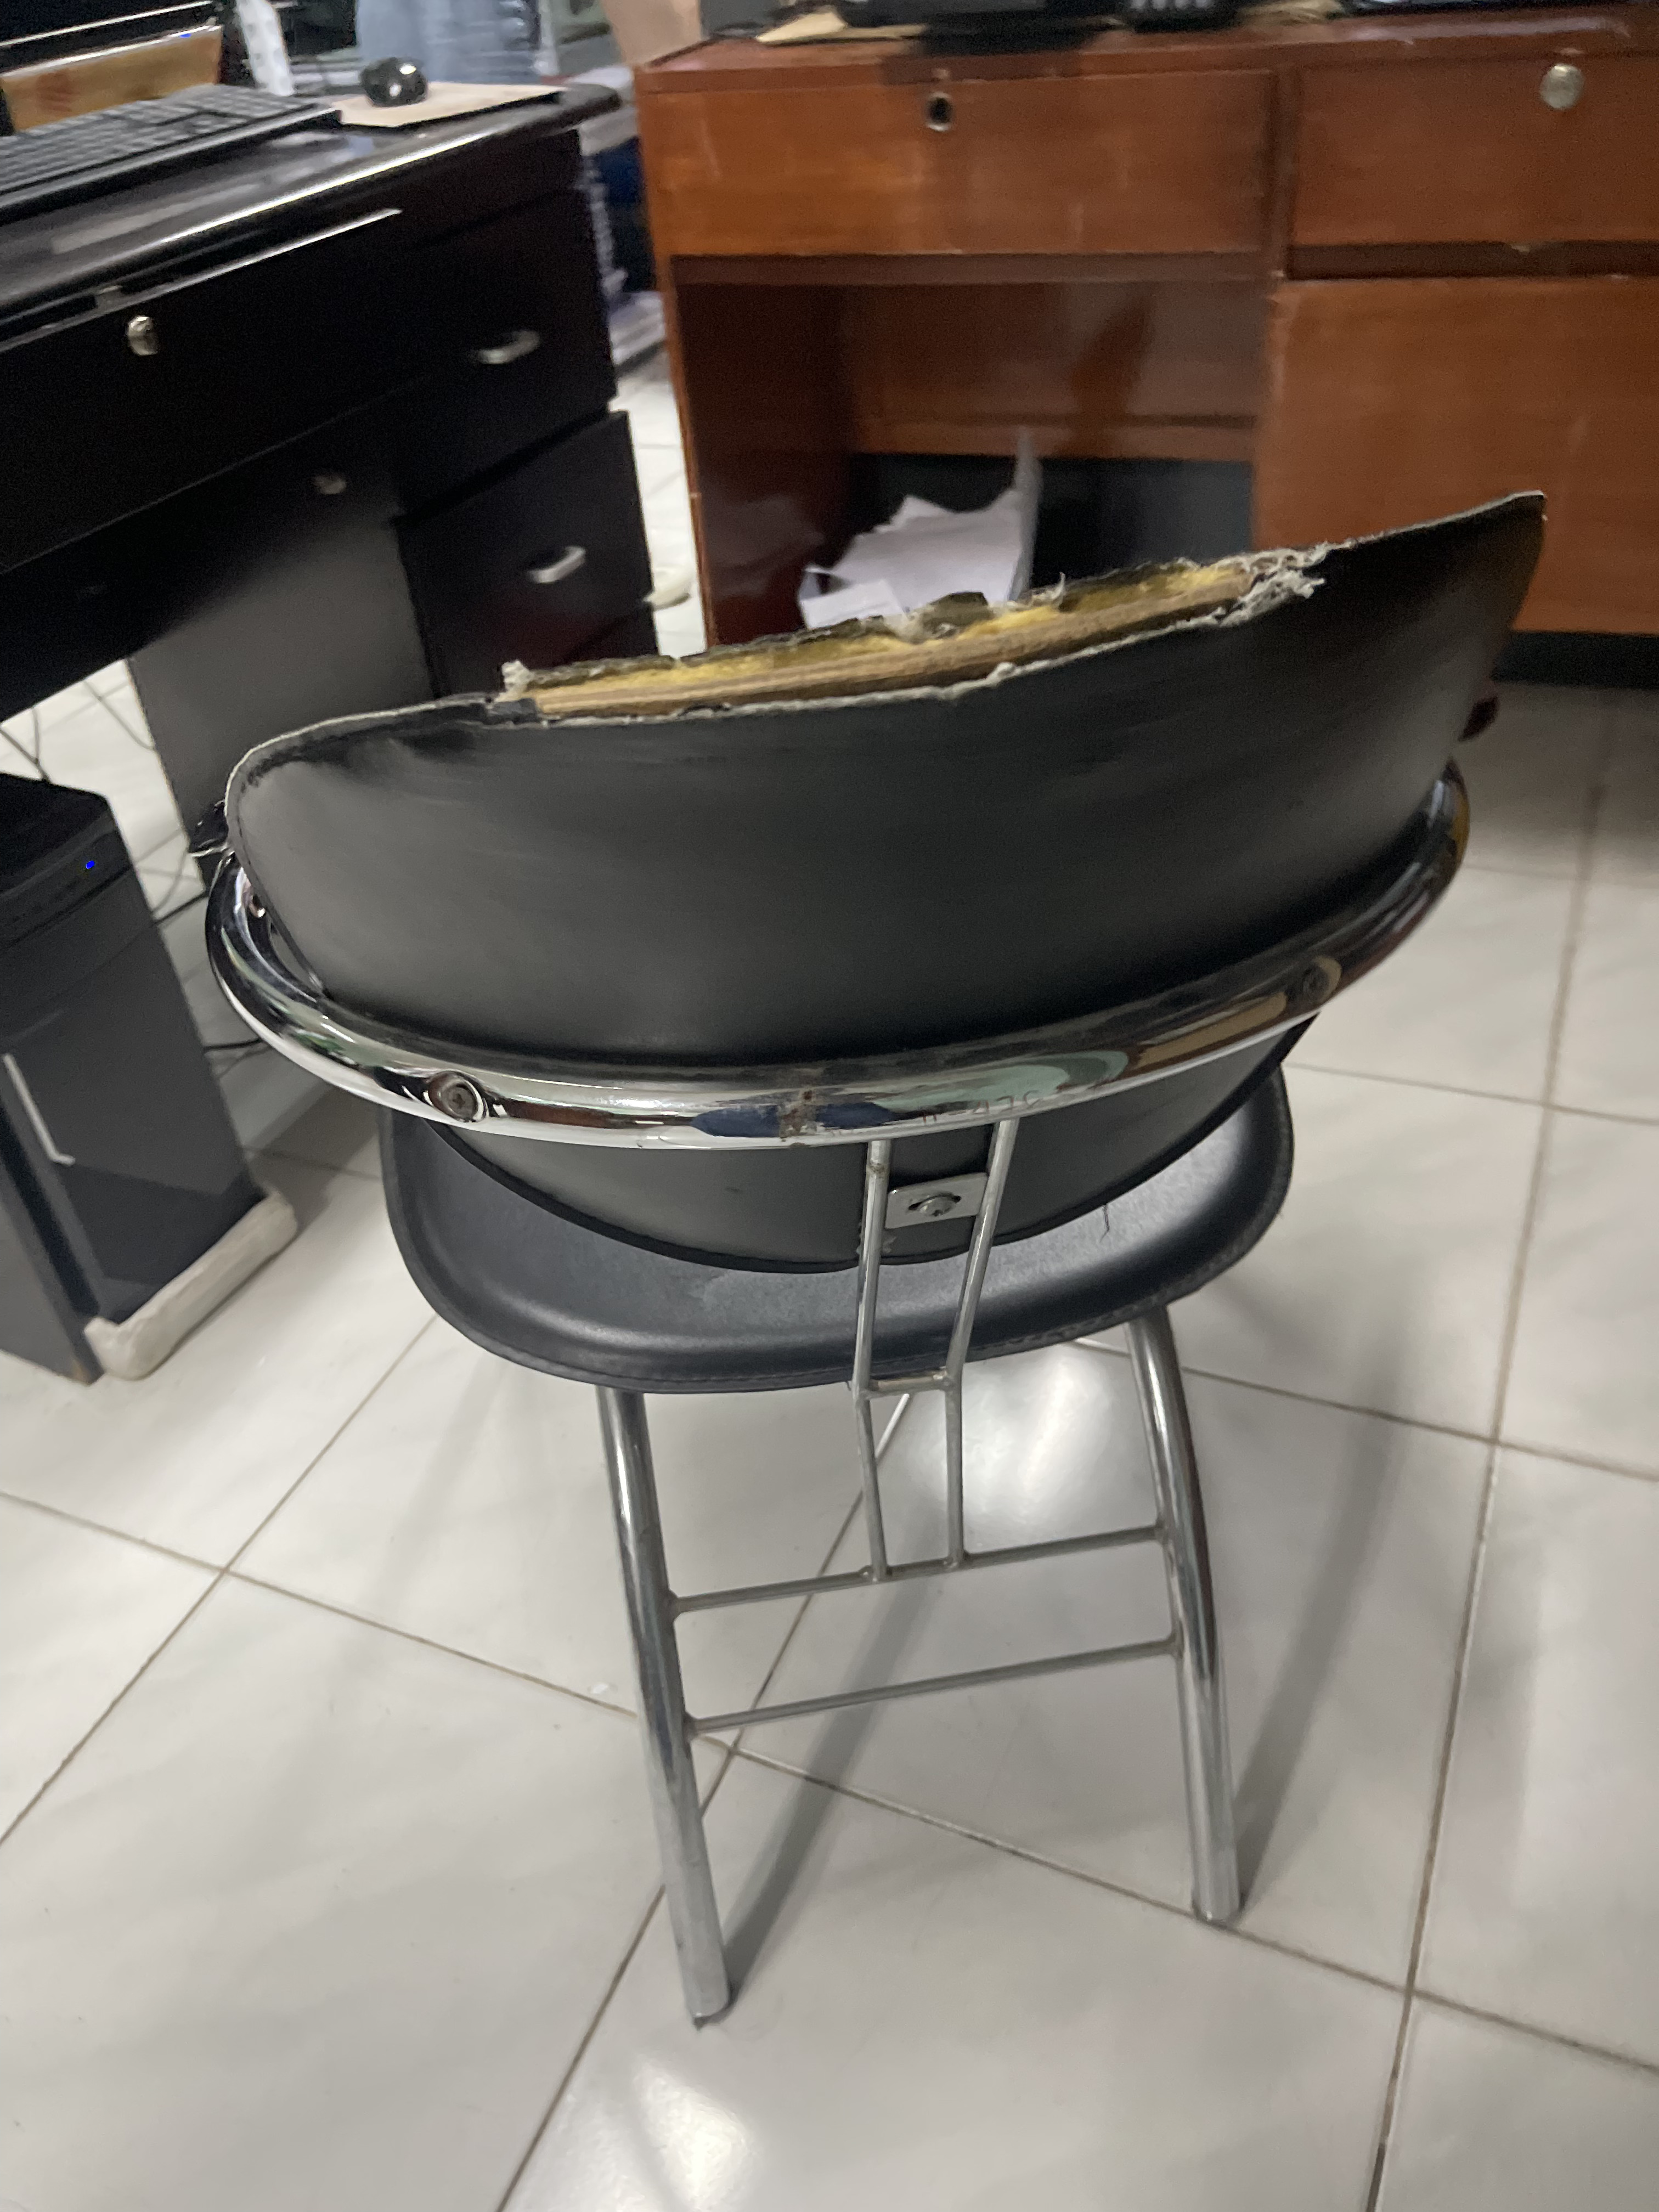chair1: (206, 491, 1659, 2024)
